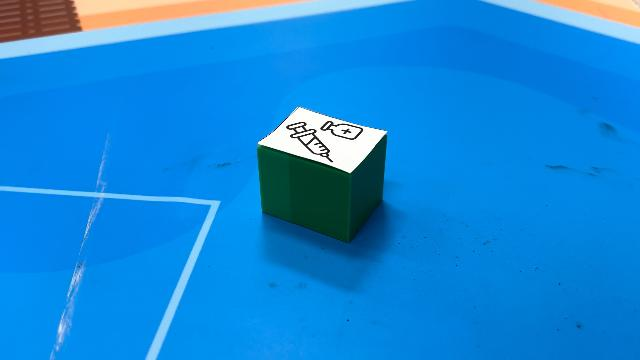syringe: (256, 105, 388, 243)
